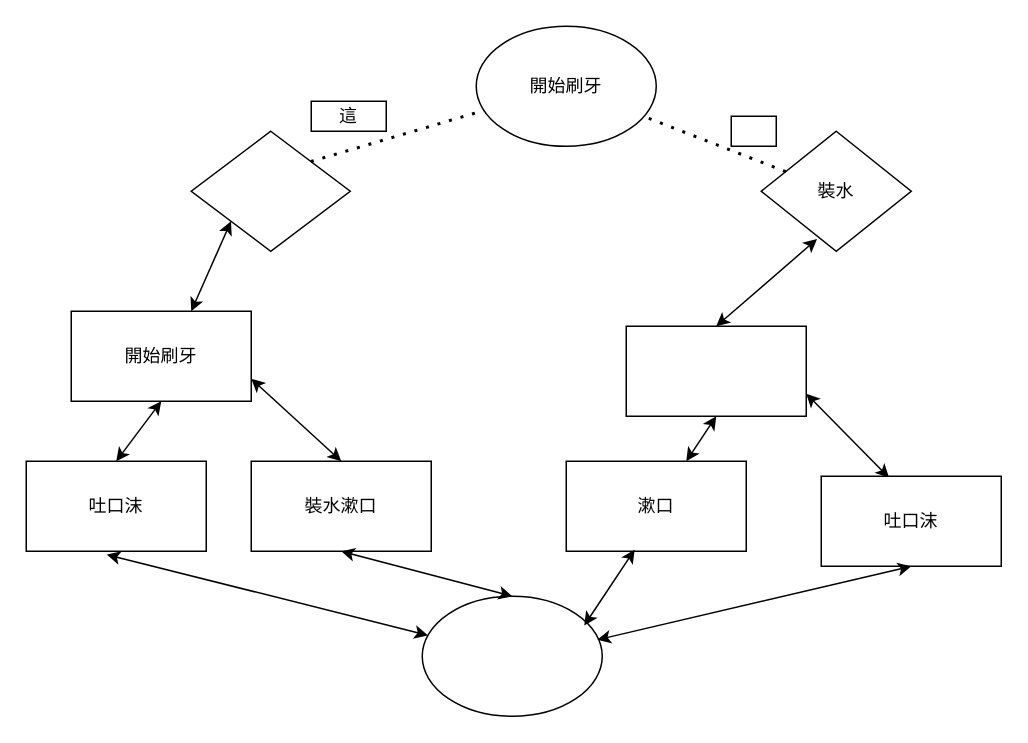
This 1028x743 diagram has some shape labels left out. Here are the shapes that lost their labels. From the top down, the centre of each, then its label:
At point 753,130: "或他".
At point 270,190: "擠牙膏".
At point 715,370: "擠牙膏 刷牙".
At point 511,655: "結束".
